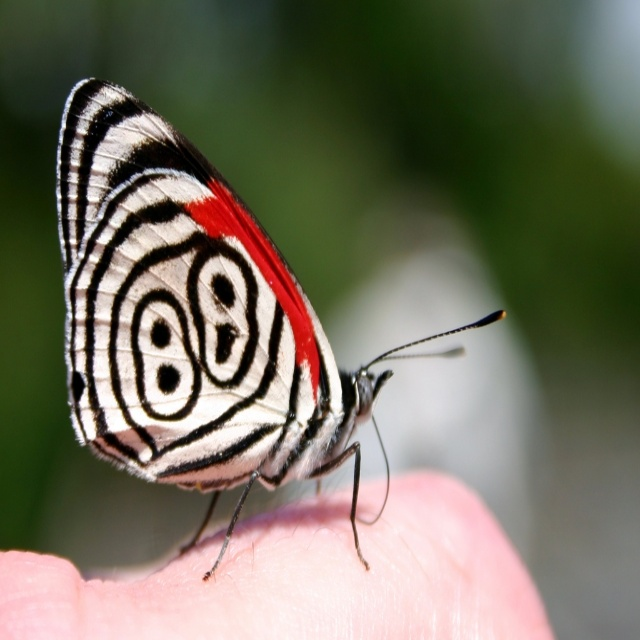Butterfly: (66, 47, 495, 600)
